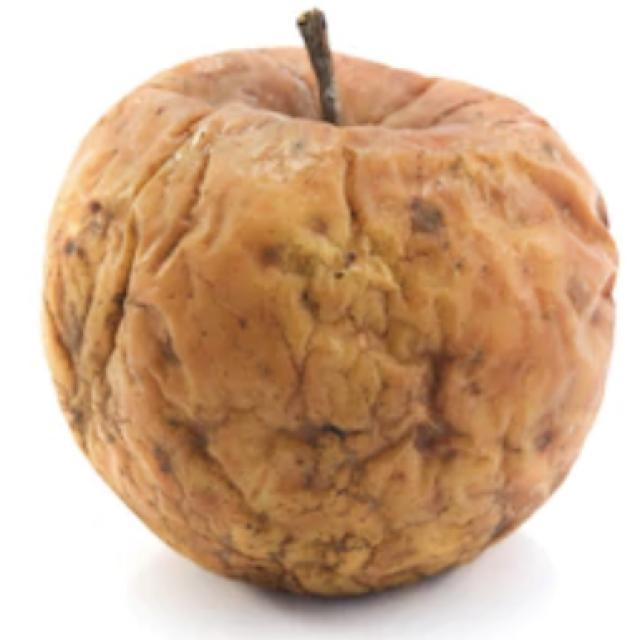Rotten: (89, 47, 604, 578)
